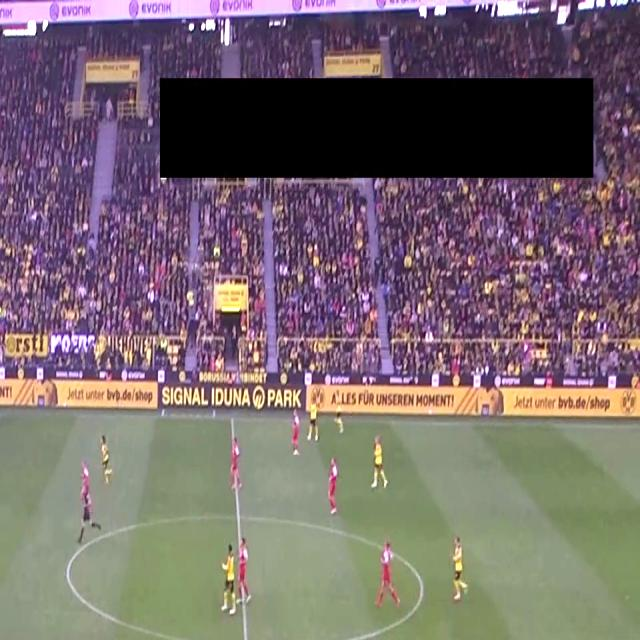referee: (78, 486, 100, 550)
soccer-player: (369, 533, 403, 614), (443, 532, 472, 608), (218, 534, 239, 621), (322, 450, 349, 516), (365, 432, 391, 495), (224, 432, 246, 494), (235, 537, 252, 608), (93, 430, 114, 486), (305, 394, 321, 447), (79, 457, 93, 511), (332, 390, 348, 434), (290, 412, 300, 458), (253, 639, 284, 640)
